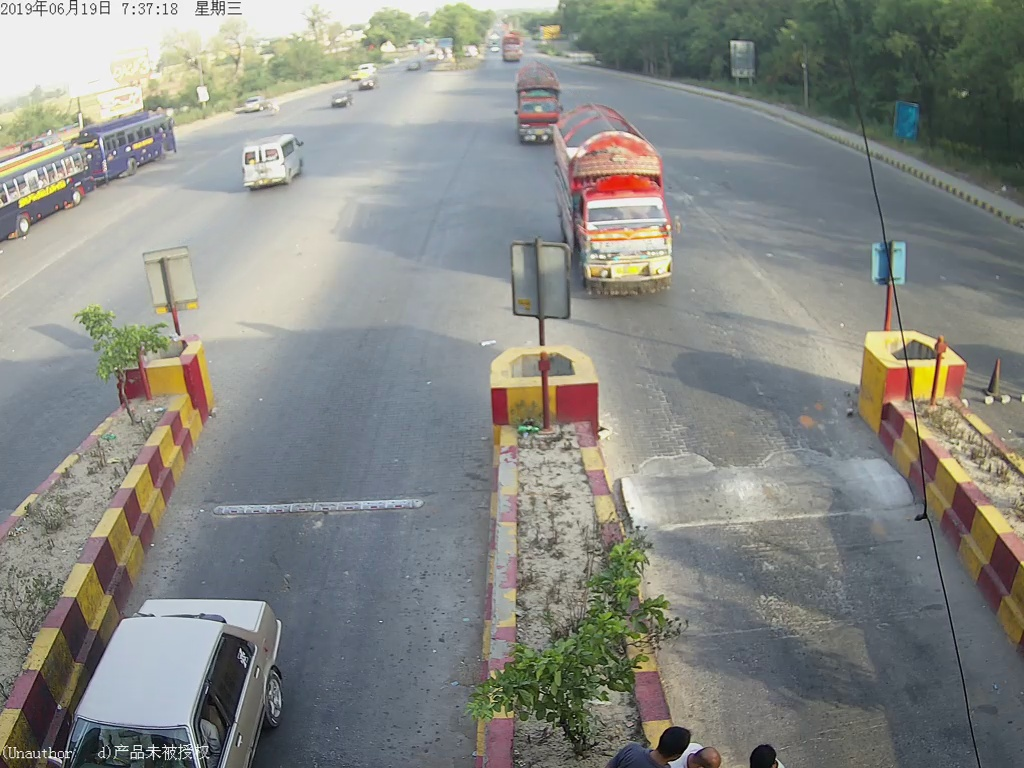Cat-4: (553, 101, 682, 296), (511, 63, 562, 145)
